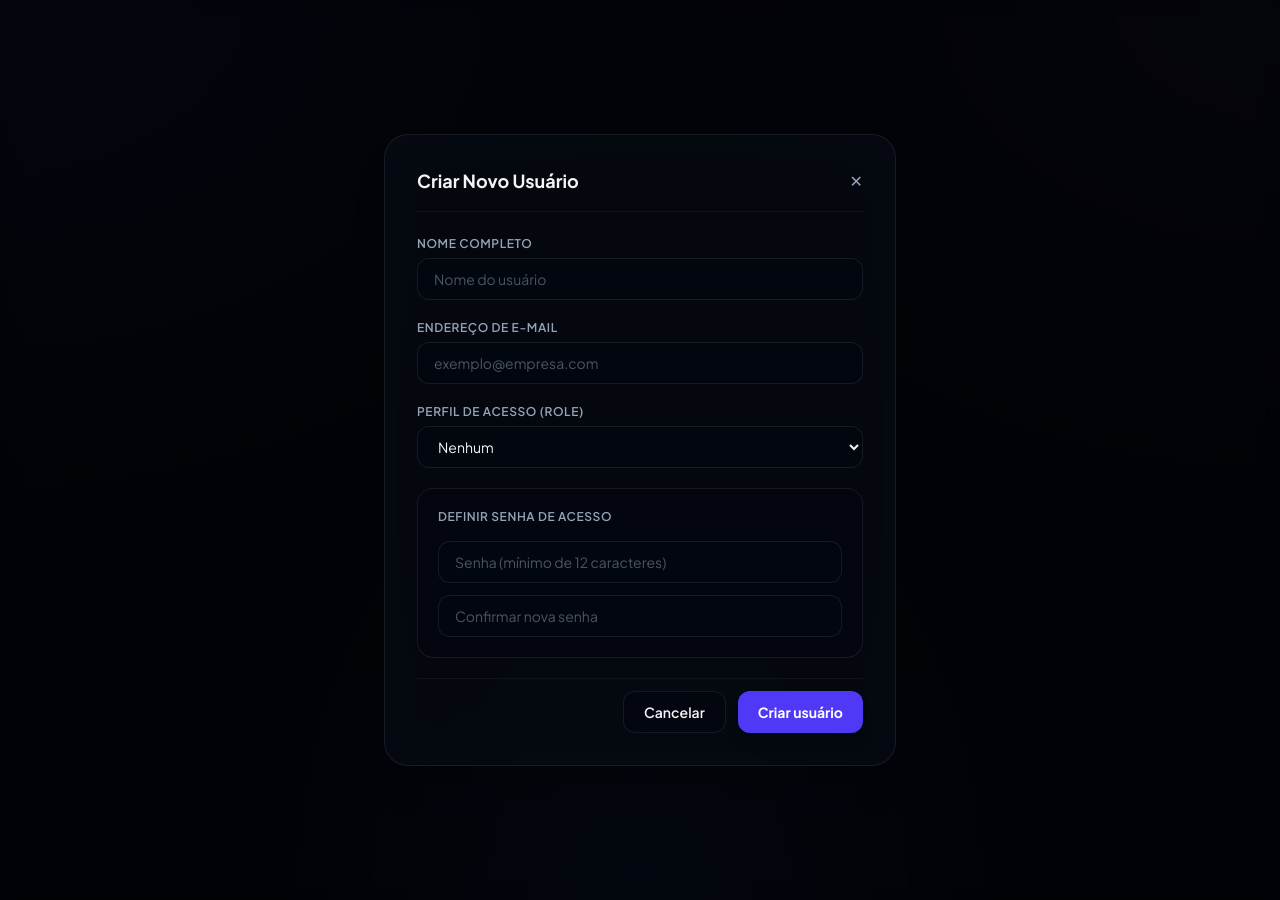
Test: UserFormModal › shows error if password has no upper, lower, or digit
Type "Fulano de Tal" into the field with placeholder "Nome do usuário".
click(640, 279); type("Fulano de Tal")  # box [417,258,863,300]
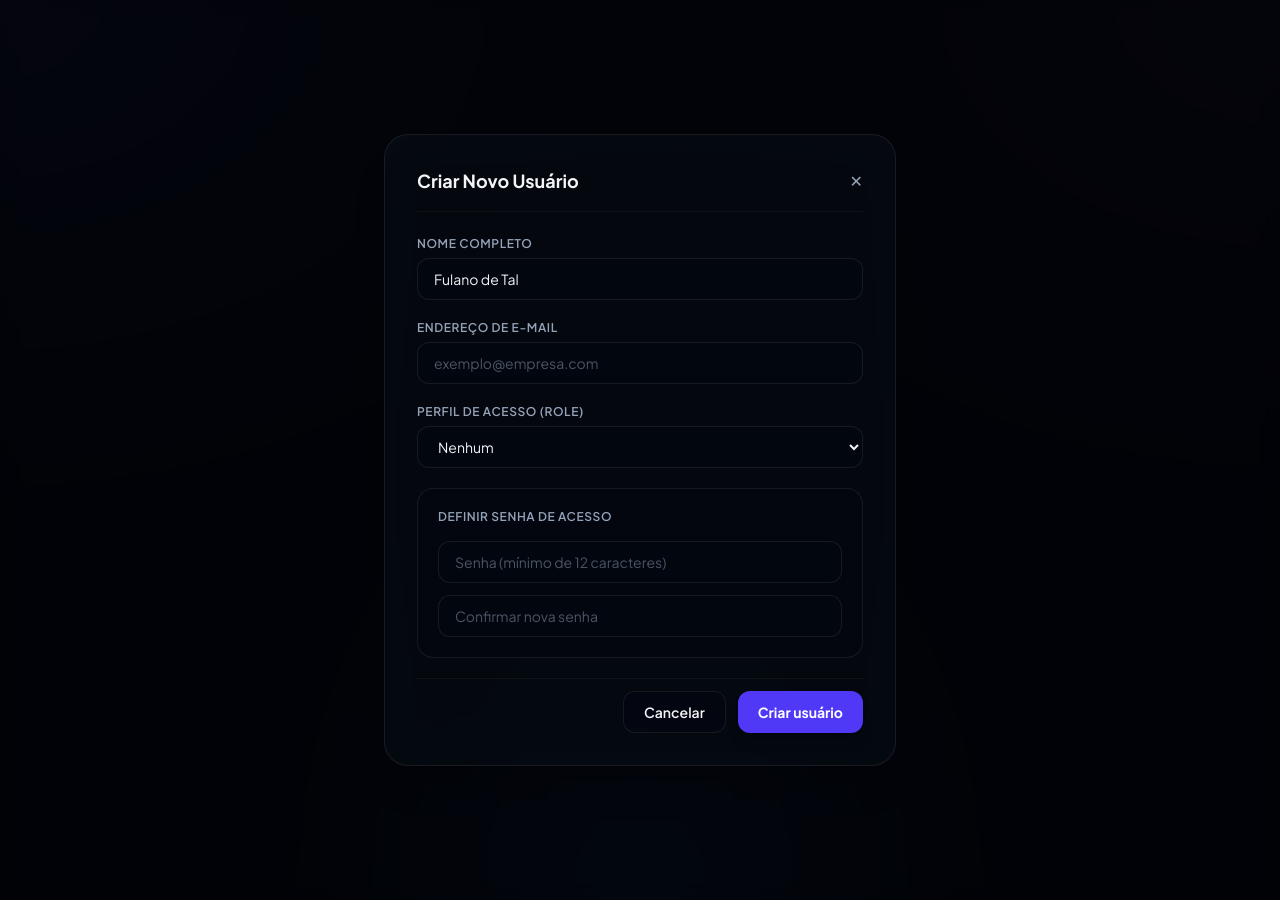
Type "fulano@empresa.com" into the field with placeholder "exemplo@empresa.com".
click(640, 363); type("fulano@empresa.com")  # box [417,342,863,384]
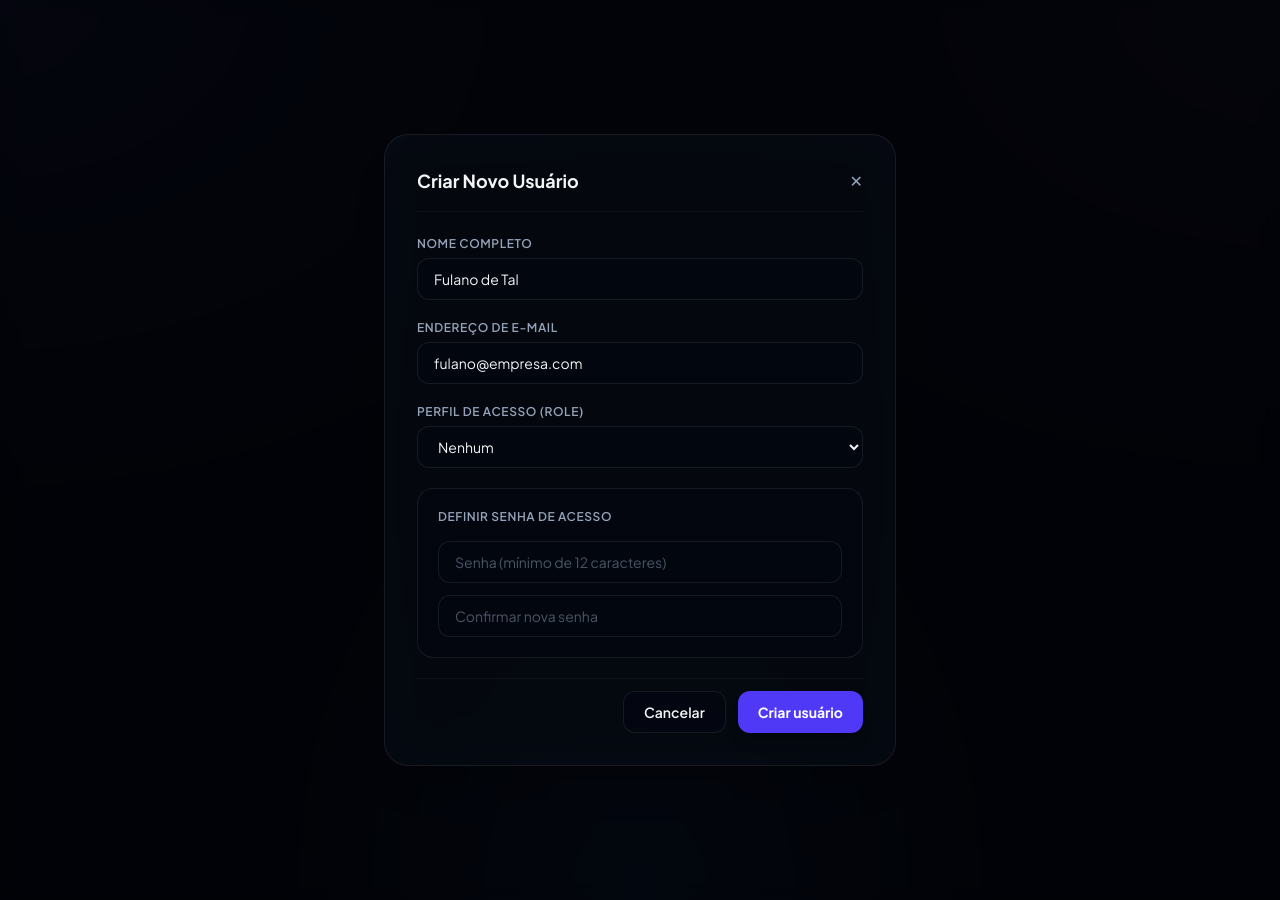
Senha sem números/maiúsculas
Type "semmaiusculasegura" into the password field with placeholder "Senha (mínimo de 12 caracteres)".
click(640, 562); type("semmaiusculasegura")  # box [438,541,842,583]
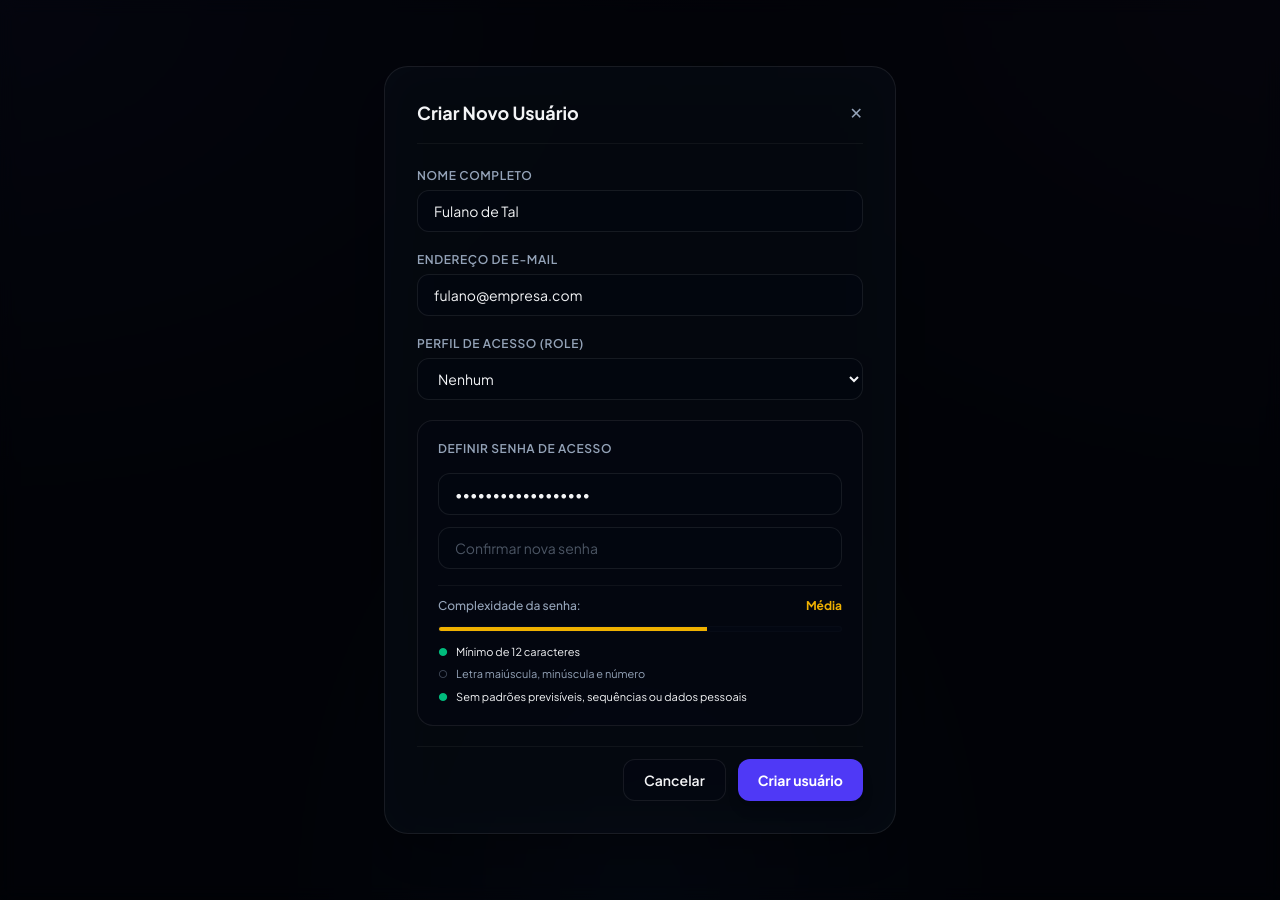
Submit the form from the button "Criar usuário", box [738,759,863,801]
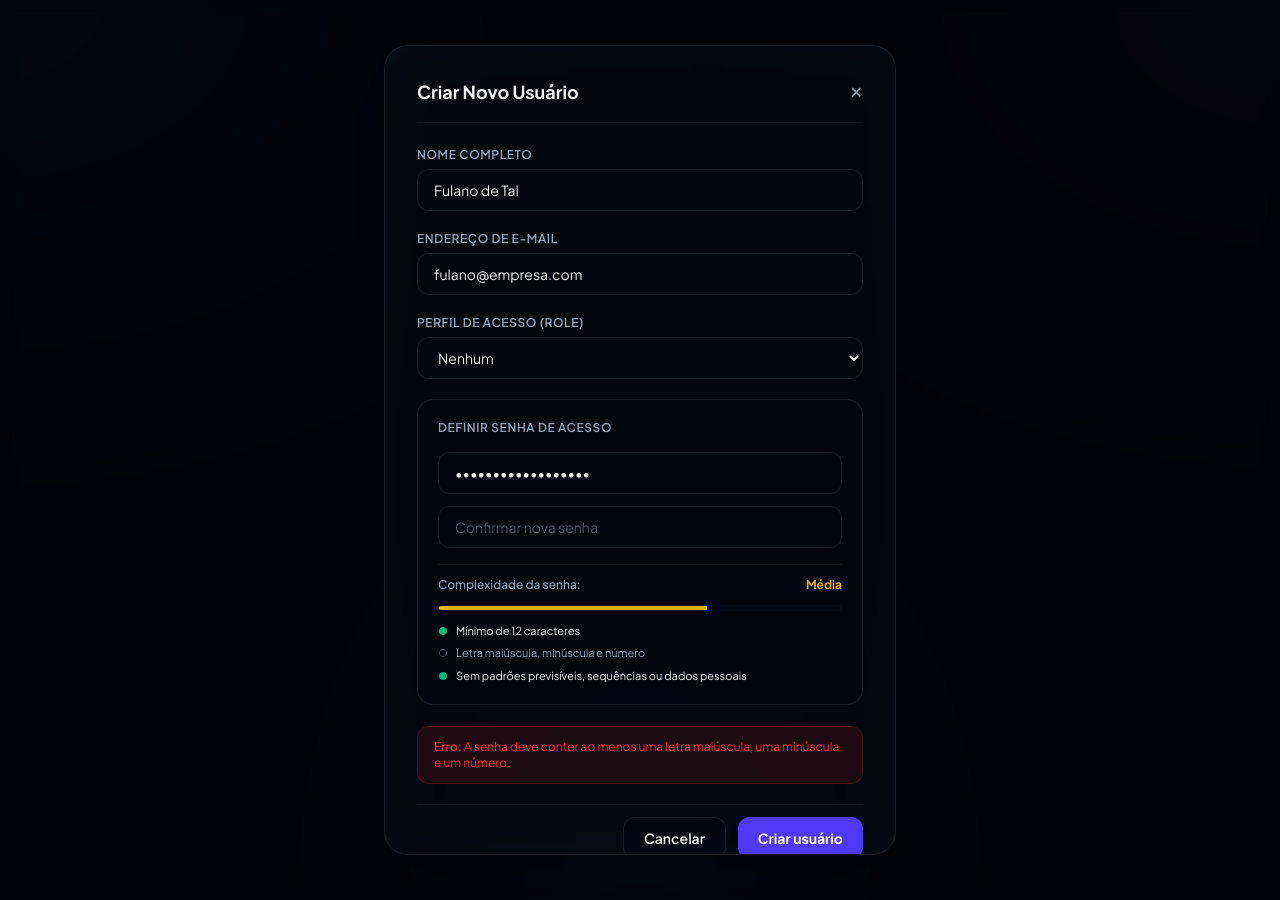
Now the text "A senha deve conter ao menos uma letra maiúscula, uma minúscula e um número." is shown, box [434,738,839,770]
